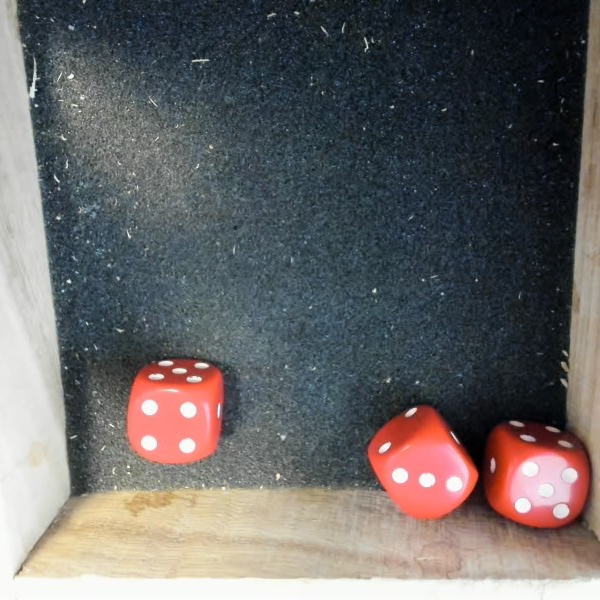red_die_pip3: (352, 394, 491, 538)
red_die_pip4: (126, 353, 221, 462)
red_die_pip5: (479, 411, 598, 536)
